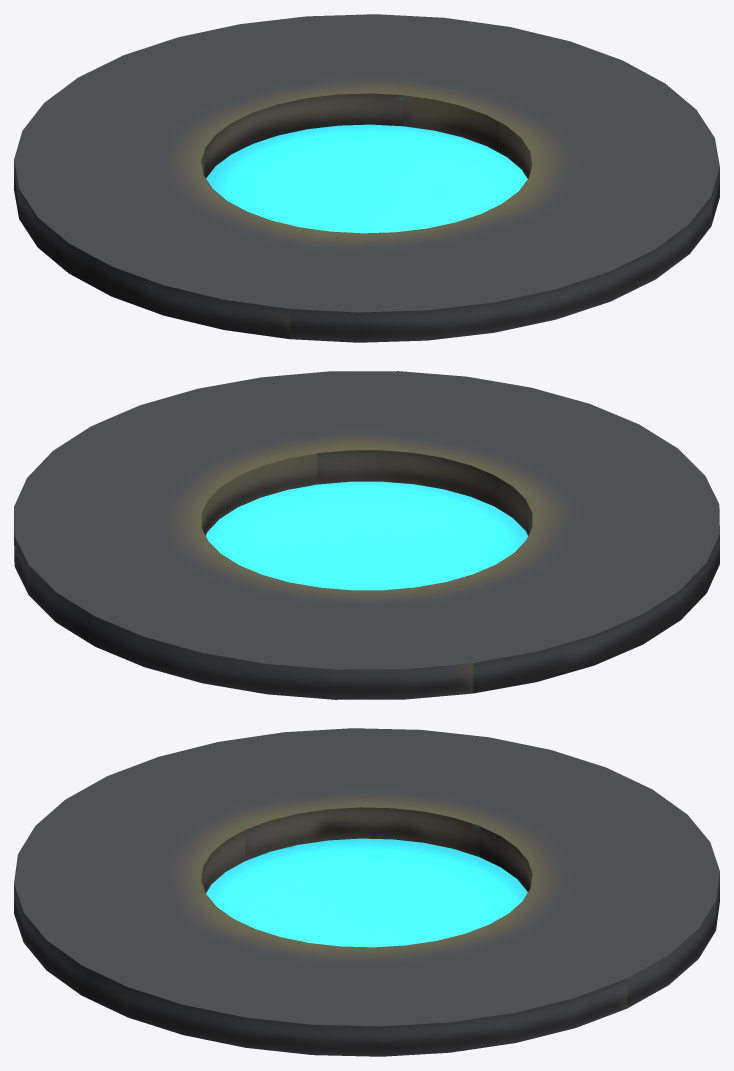
File: OrtaYuvarlak.fbx
3 renders of one model, top to bottom at view 1: azimuth 30°, elevation 25°; view 2: azimuth 150°, elevation 25°; view 3: azimuth 270°, elevation 25°, orthographic.
Parts seen in each view (by area): view 1: Circle.002; view 2: Circle.002; view 3: Circle.002.
Boxes of the visible parts, bbox=[...] form: Circle.002: bbox=[14, 14, 719, 342]; Circle.002: bbox=[14, 371, 719, 699]; Circle.002: bbox=[14, 728, 719, 1056].
Bounding box in the file's own units: 308 × 15 × 308.
